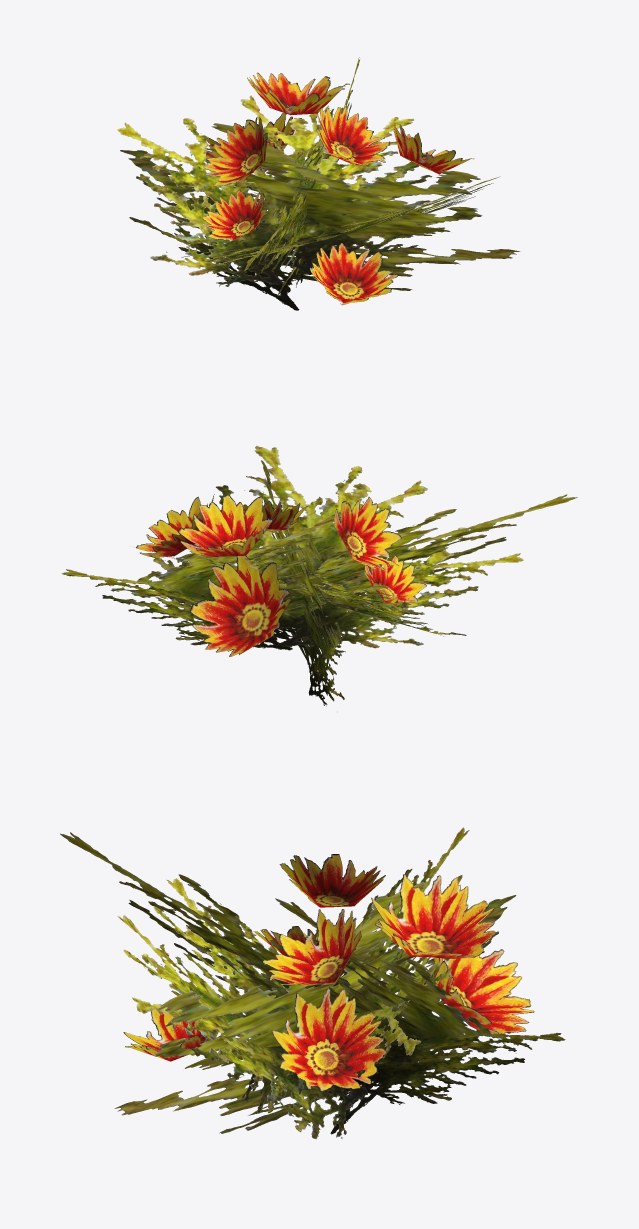
Rendered from flower_shrub_orange_2m.DAE.
The picture shows the model from 3 angles, top to bottom: view 1: azimuth 30°, elevation 25°; view 2: azimuth 150°, elevation 25°; view 3: azimuth 270°, elevation 25°; orthographic projection. The views are drawn at different scales.
Visible parts, largest first — view 1: Plane01; view 2: Plane01; view 3: Plane01.
Part boxes in pixels (x1=…): Plane01: x1=117, y1=57, x2=520, y2=310; Plane01: x1=61, y1=445, x2=577, y2=706; Plane01: x1=60, y1=827, x2=565, y2=1139.
Size of the model in its own units: 2.9 by 1.67 by 3.04.
